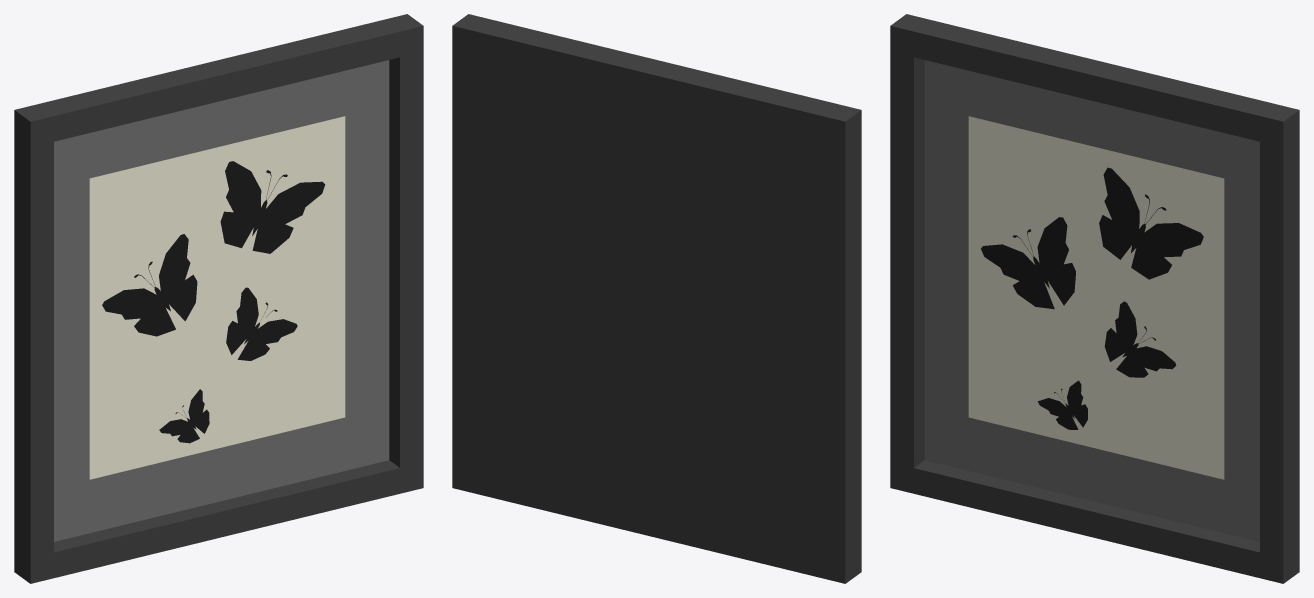
File: picture_027.glb
3 renders of one model, left to right at view 1: azimuth 30°, elevation 25°; view 2: azimuth 150°, elevation 25°; view 3: azimuth 330°, elevation 25°, orthographic.
Visible parts, largest first — view 1: picture_027; view 2: picture_027; view 3: picture_027.
Part boxes in pixels (x1=…): picture_027: x1=14, y1=14, x2=423, y2=583; picture_027: x1=452, y1=14, x2=861, y2=583; picture_027: x1=890, y1=14, x2=1299, y2=583.
Size of the model in its own units: 0.5537 by 0.6221 by 0.0395.
Materials: 1 (1 with a texture image).
